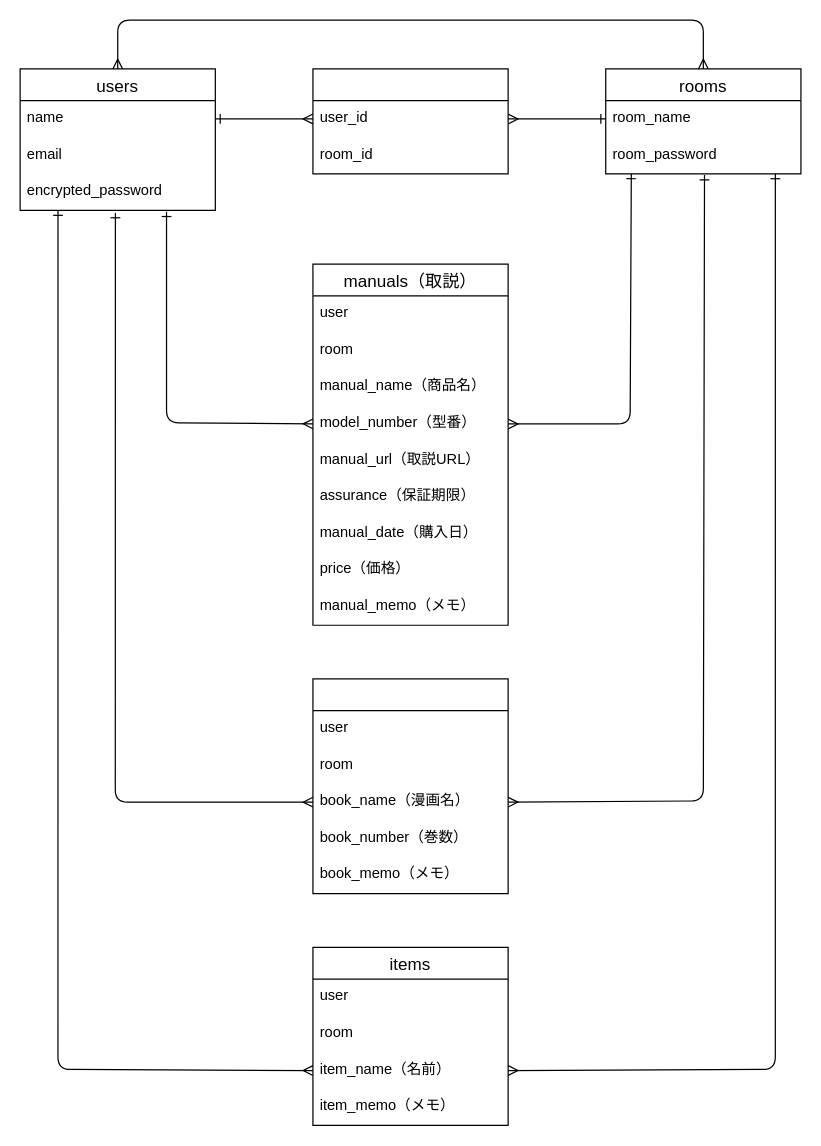
Image size: 821x1146. Some labels were removed from this diagram. The shapes that lost their labels are listed below. From the top down, each one's box as (x1, y1, x2, y2) in pixels, then its label:
(312, 68, 508, 174): room_users
(312, 678, 508, 894): books（本）
